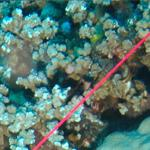alive: (4, 4, 147, 147)
